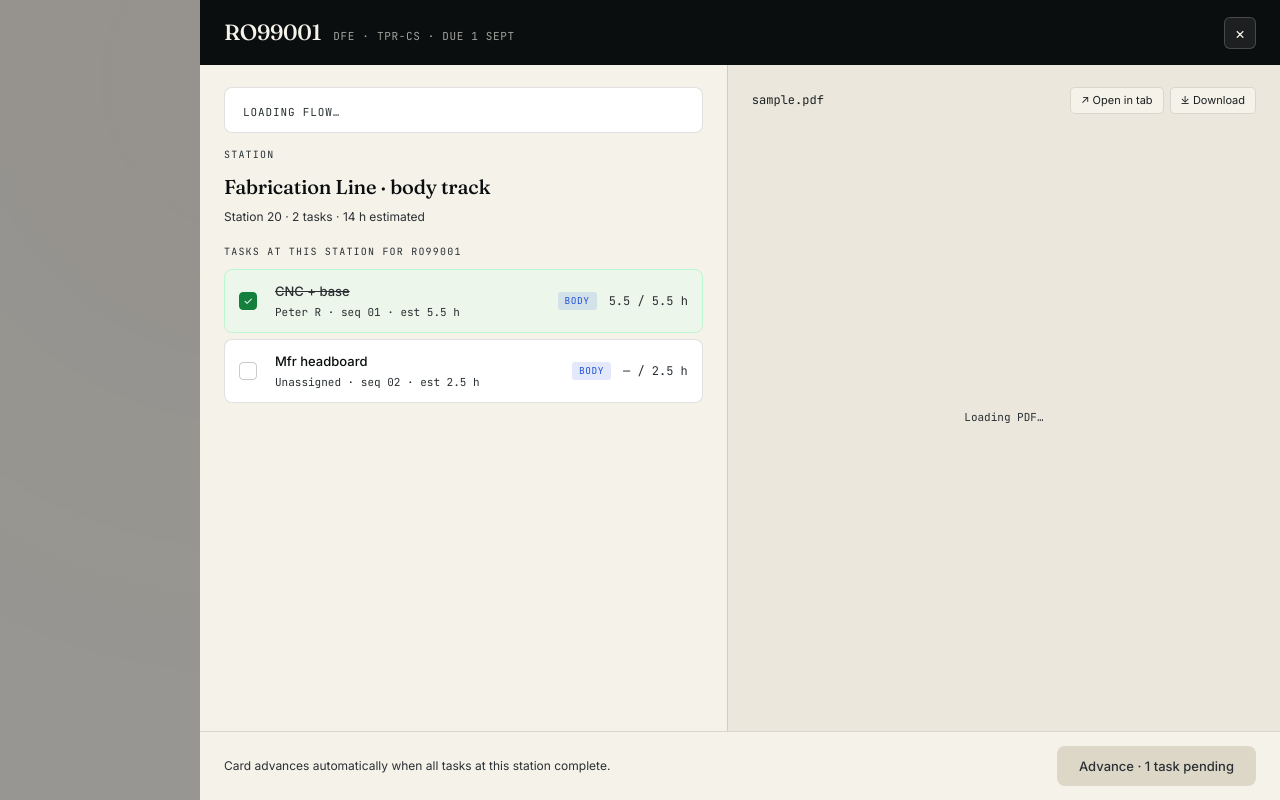
Scenario: CardDrawerComponent › as supervisor › shows technician dropdown in menu after loading
The width and height of the screenshot is (1280, 800).
Click the element with class "task-row" that starts with "CNC + base" at [463, 301], box [224,269,703,333]
Wait 400 ms
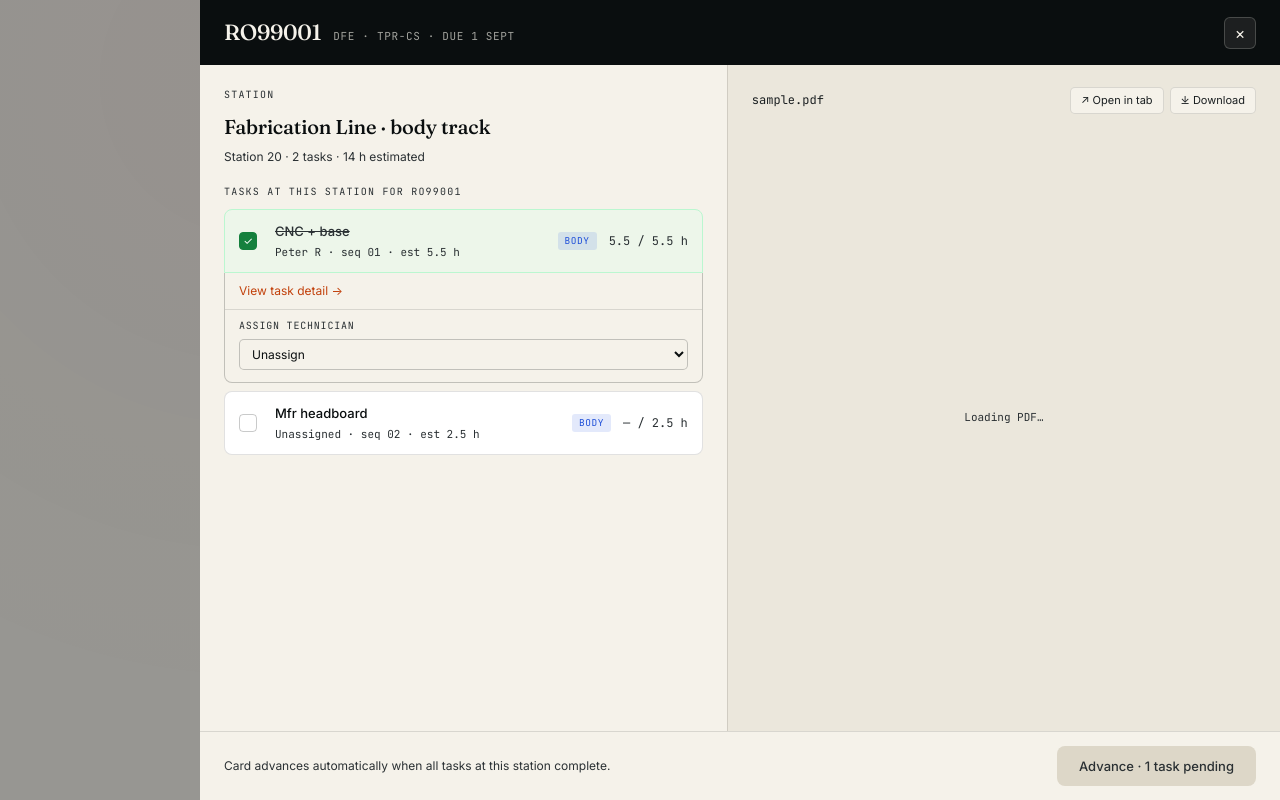
Check: the dropdown with class "task-row-menu-select" is shown, box [239,339,688,370]
